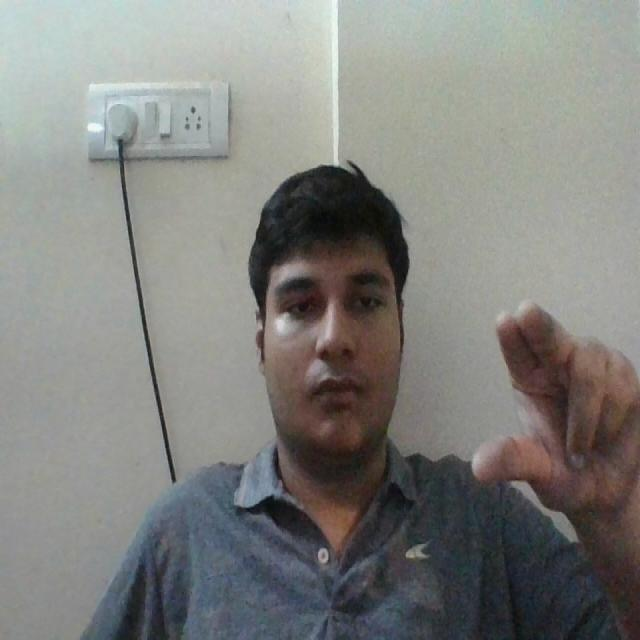no: (457, 292, 640, 572)
